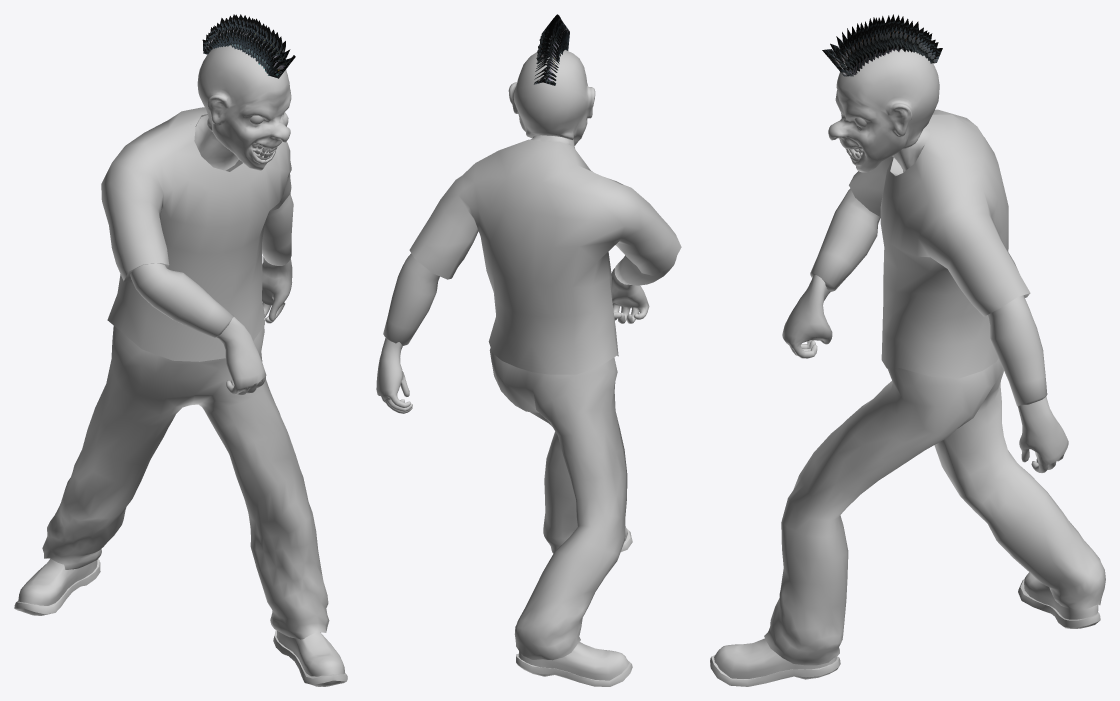
Rendered from Attack01 (46).obj.
3 views of the same model, side by side, from view 1: azimuth 30°, elevation 25°; view 2: azimuth 150°, elevation 25°; view 3: azimuth 270°, elevation 25° (orthographic). The views are drawn at different scales.
Parts seen in each view (by area): view 1: pants, shirt, head, forearm_band_01, Hair, boots, boots001, hand_right, forearm_band_002, hand_left, neck; view 2: shirt, pants, head, boots, forearm_band_002, hand_left, Hair, hand_right, forearm_band_01; view 3: pants, shirt, head, forearm_band_002, Hair, forearm_band_01, boots001, hand_left, hand_right, boots, neck.
Part boxes in pixels (x1,y1,x2,y2): pants: [42, 326, 329, 639]; shirt: [101, 107, 291, 361]; head: [197, 45, 291, 170]; forearm_band_01: [130, 263, 234, 337]; Hair: [202, 14, 295, 78]; boots: [14, 559, 100, 615]; boots001: [273, 630, 347, 686]; hand_right: [216, 317, 266, 395]; forearm_band_002: [262, 194, 293, 265]; hand_left: [262, 257, 292, 323]; neck: [190, 115, 238, 170]; shirt: [409, 139, 681, 374]; pants: [489, 348, 627, 660]; head: [508, 50, 595, 145]; boots: [516, 642, 632, 686]; forearm_band_002: [383, 253, 439, 345]; hand_left: [376, 338, 412, 413]; Hair: [534, 14, 569, 85]; hand_right: [611, 268, 649, 323]; forearm_band_01: [614, 255, 676, 285]; pants: [764, 358, 1105, 665]; shirt: [849, 109, 1030, 378]; head: [828, 49, 939, 172]; forearm_band_002: [988, 295, 1047, 406]; Hair: [822, 14, 942, 76]; forearm_band_01: [810, 188, 880, 292]; boots001: [710, 638, 840, 686]; hand_left: [1017, 396, 1068, 472]; hand_right: [782, 275, 832, 358]; boots: [1018, 572, 1100, 628]; neck: [892, 123, 929, 172].
Bounding box in the file's own units: 82.42 × 181 × 98.42.
